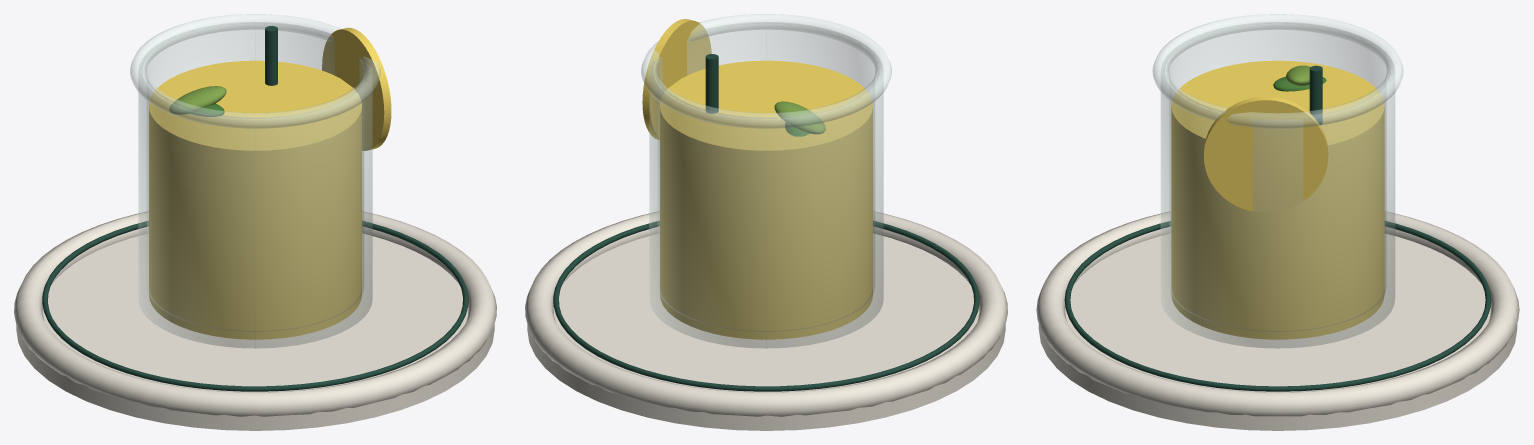
Rendered from lemonade-small.glb.
The picture shows the model from 3 angles, left to right: view 1: azimuth 30°, elevation 25°; view 2: azimuth 150°, elevation 25°; view 3: azimuth 270°, elevation 25°; orthographic projection.
Parts seen in each view (by area): view 1: Morsel original lemonade small, leaf; view 2: Morsel original lemonade small, leaf; view 3: Morsel original lemonade small.
Boxes of the visible parts, x1=… form: Morsel original lemonade small: x1=14, y1=14, x2=496, y2=430; leaf: x1=169, y1=86, x2=226, y2=114; Morsel original lemonade small: x1=525, y1=14, x2=1007, y2=430; leaf: x1=774, y1=101, x2=825, y2=134; Morsel original lemonade small: x1=1036, y1=14, x2=1519, y2=430.
Bounding box in the file's own units: 2.02 × 1.28 × 2.02.
